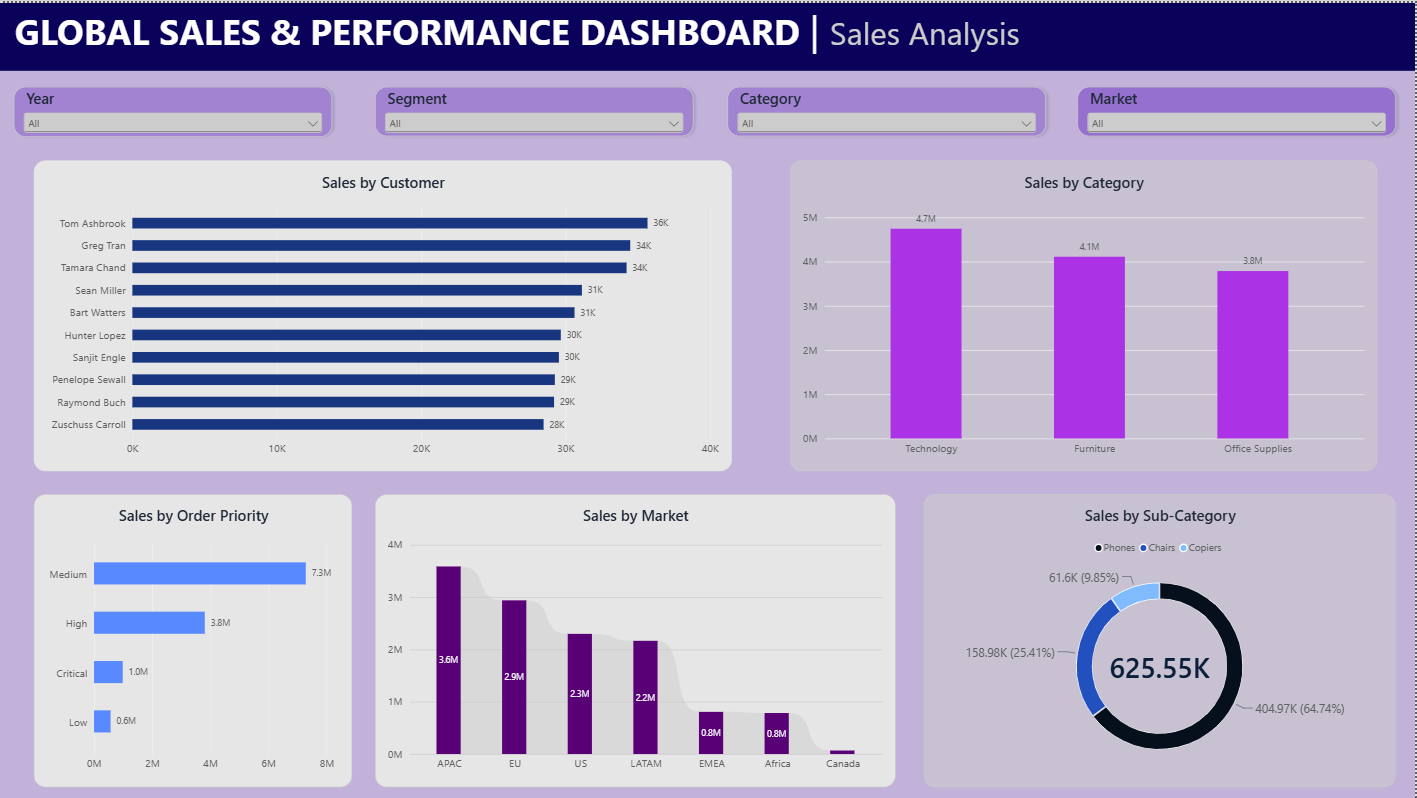

Layout of this report page (visuals, bound fields, positions):
{"tool":"powerbi","page":{"name":"Sales Analysis","canvas":[1920,1080],"ordinal":1},"visuals":[{"type":"textbox","box":[0,0,1920,92.4],"z":4000},{"type":"slicer","fields":{"Values":["DateTable.Year"]},"box":[18.5,113.2,432.2,67.9],"z":5000},{"type":"slicer","fields":{"Values":["Orders.Market"]},"box":[1462.2,113.9,432,67],"z":6000},{"type":"slicer","fields":{"Values":["Orders.Segment"]},"box":[509.3,113.4,432,67],"z":7000},{"type":"slicer","fields":{"Values":["Orders.Category"]},"box":[987.2,113.4,432,67],"z":8000},{"type":"ribbonChart","title":"Sales by Market","fields":{"Category":["Orders.Market"],"Y":["Measures (2).Total Sales"]},"box":[508.4,666.9,706,397.3],"z":9000},{"type":"clusteredColumnChart","title":"Sales by Category","fields":{"Category":["Orders.Category"],"Y":["Measures (2).Total Sales"]},"box":[1072.4,214.1,796.6,422],"z":10000},{"type":"clusteredBarChart","title":"Sales by Order Priority","fields":{"Category":["Orders.Order Priority"],"Y":["Measures (2).Total Sales"]},"box":[45.3,666.9,432.2,397.3],"z":11000},{"type":"donutChart","title":"Sales by Sub-Category","fields":{"Category":["Orders.Sub-Category"],"Y":["Measures (2).Total Sales"]},"box":[1253.5,666.9,640.1,397.3],"z":12000},{"type":"clusteredBarChart","title":"Sales by Customer","fields":{"Category":["Orders.Customer Name"],"Y":["Measures (2).Total Sales"]},"box":[45.3,214.1,946.8,422],"z":13000}]}

Visuals, with their boxes in screenshot pixels (x1, y1, x2, y2), scaled from the page's 1920x1080 canvas onto the 1417x798 screenshot:
textbox: (x1=0, y1=0, x2=1416, y2=68)
slicer - DateTable.Year: (x1=14, y1=84, x2=333, y2=134)
slicer - Orders.Market: (x1=1079, y1=84, x2=1398, y2=134)
slicer - Orders.Segment: (x1=376, y1=84, x2=695, y2=133)
slicer - Orders.Category: (x1=729, y1=84, x2=1047, y2=133)
"Sales by Market" ribbonChart: (x1=375, y1=493, x2=896, y2=786)
"Sales by Category" clusteredColumnChart: (x1=791, y1=158, x2=1379, y2=470)
"Sales by Order Priority" clusteredBarChart: (x1=33, y1=493, x2=352, y2=786)
"Sales by Sub-Category" donutChart: (x1=925, y1=493, x2=1398, y2=786)
"Sales by Customer" clusteredBarChart: (x1=33, y1=158, x2=732, y2=470)
